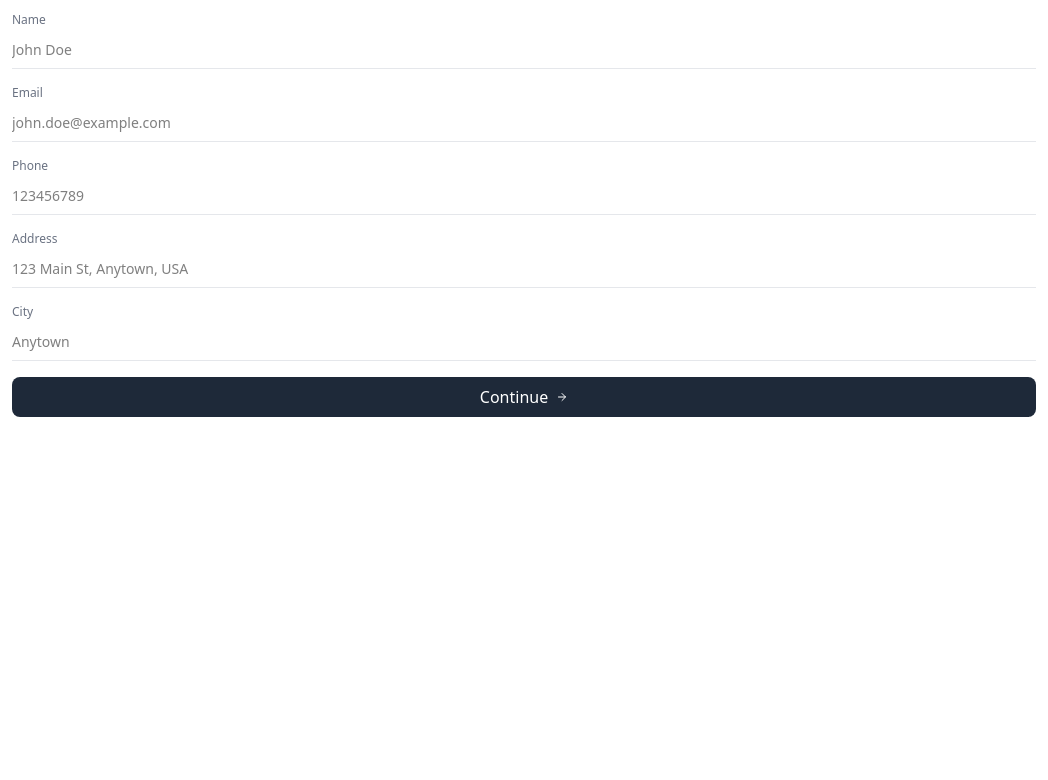
Scenario: ShippingForm › shows validation errors when the form is submitted empty
Click the button "Continue".
click(524, 397)  # box x1=12 y1=377 x2=1036 y2=417
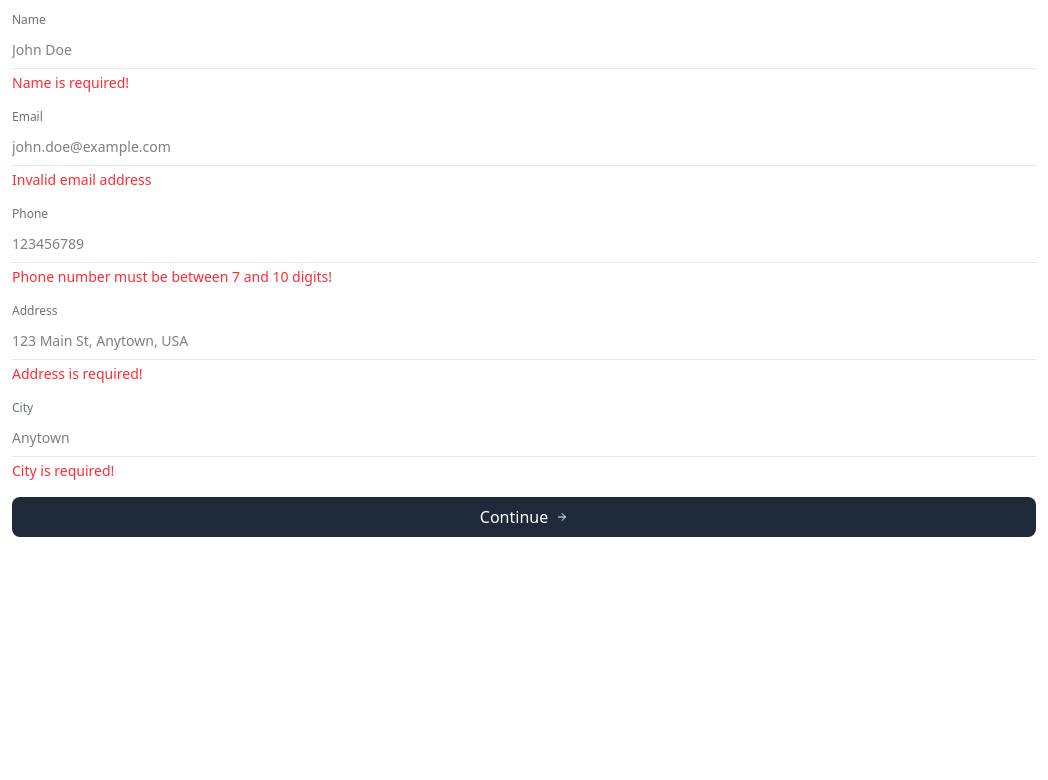
Check: the text "Name is required!" is shown, box x1=12 y1=73 x2=129 y2=92
Check: the text "Invalid email address" is shown, box x1=12 y1=170 x2=151 y2=189
Check: the text "Phone number must be between 7 and 10 digits!" is shown, box x1=12 y1=267 x2=332 y2=286
